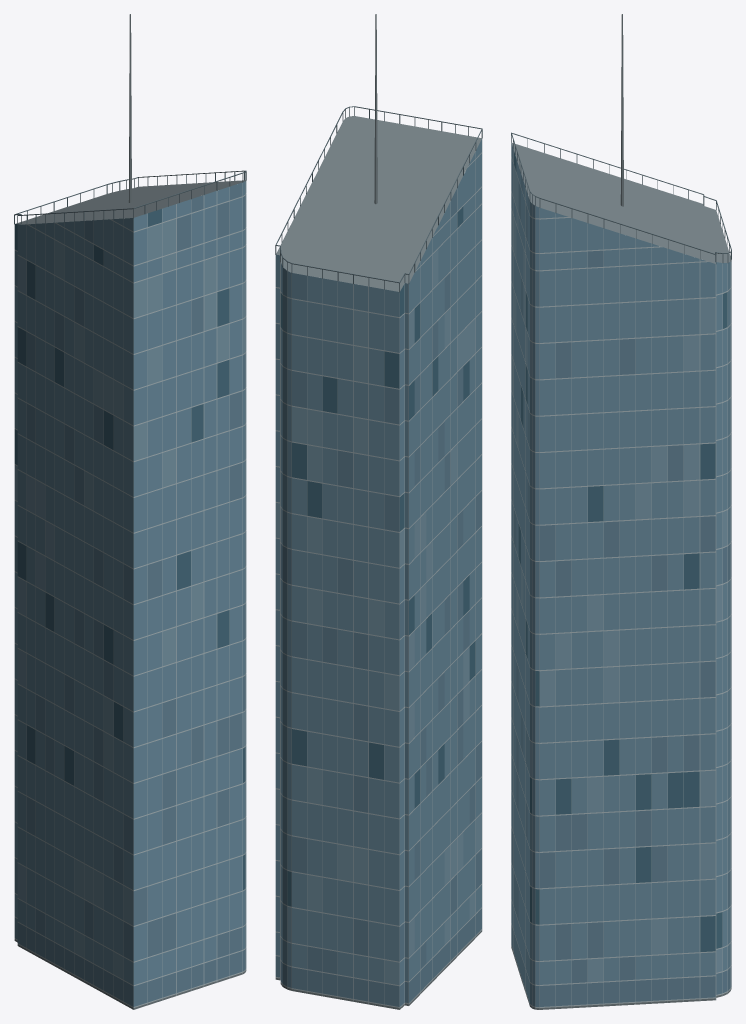
Rendered from tour-incity-far.glb.
3 views of the same model, side by side, from view 1: azimuth 30°, elevation 25°; view 2: azimuth 150°, elevation 25°; view 3: azimuth 270°, elevation 25° (orthographic).
Visible parts, largest first — view 1: tour-incity-0-glass, tour-incity-0-frame, tour-incity-0-glassShade, tour-incity-0-glassPale, tour-incity-0-glow, tour-incity-0-roof, tour-incity-0-light; view 2: tour-incity-0-glass, tour-incity-0-roof, tour-incity-0-frame, tour-incity-0-glassShade, tour-incity-0-glassPale, tour-incity-0-glow, tour-incity-0-light; view 3: tour-incity-0-glass, tour-incity-0-frame, tour-incity-0-glassShade, tour-incity-0-roof, tour-incity-0-glassPale, tour-incity-0-glow, tour-incity-0-light.
Part boxes in pixels (x1,y1,x2,y2): tour-incity-0-glass: (14, 181, 246, 984); tour-incity-0-frame: (14, 181, 246, 1009); tour-incity-0-glassShade: (14, 182, 246, 1006); tour-incity-0-glassPale: (14, 219, 245, 979); tour-incity-0-glow: (14, 209, 245, 889); tour-incity-0-roof: (14, 14, 246, 1009); tour-incity-0-light: (14, 170, 246, 225); tour-incity-0-glass: (275, 139, 481, 984); tour-incity-0-roof: (275, 14, 481, 1009); tour-incity-0-frame: (275, 139, 482, 1009); tour-incity-0-glassShade: (275, 164, 481, 1006); tour-incity-0-glassPale: (275, 249, 481, 984); tour-incity-0-glow: (280, 206, 475, 906); tour-incity-0-light: (275, 106, 482, 292); tour-incity-0-glass: (511, 143, 731, 984); tour-incity-0-frame: (511, 150, 731, 1009); tour-incity-0-glassShade: (511, 174, 731, 1006); tour-incity-0-roof: (511, 14, 731, 1009); tour-incity-0-glassPale: (511, 166, 731, 982); tour-incity-0-glow: (514, 151, 731, 951); tour-incity-0-light: (511, 132, 731, 263).
Bounding box in the file's own units: 32.62 × 200 × 41.74.
